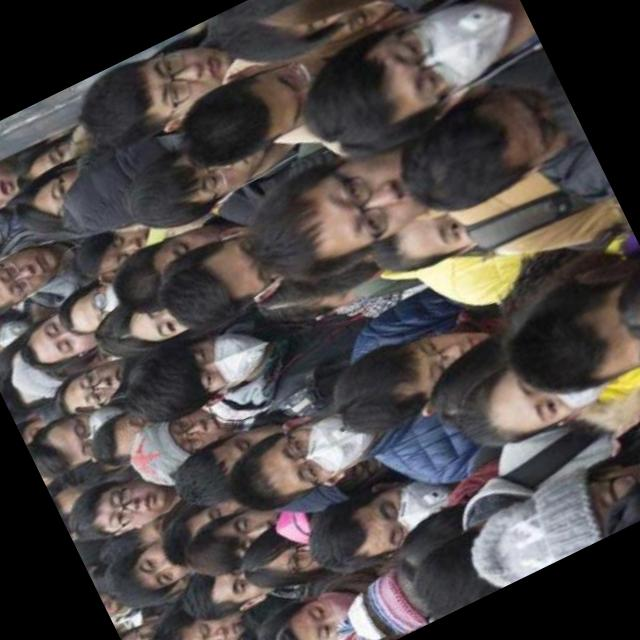bareface: (256, 124, 455, 288)
